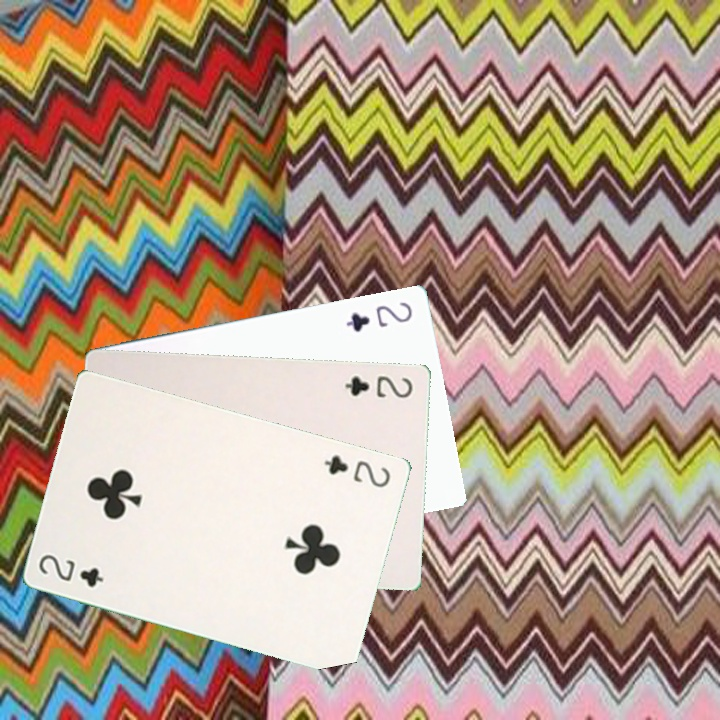2c: (34, 550, 106, 590), (320, 451, 393, 490), (342, 297, 415, 335), (341, 371, 415, 401)
